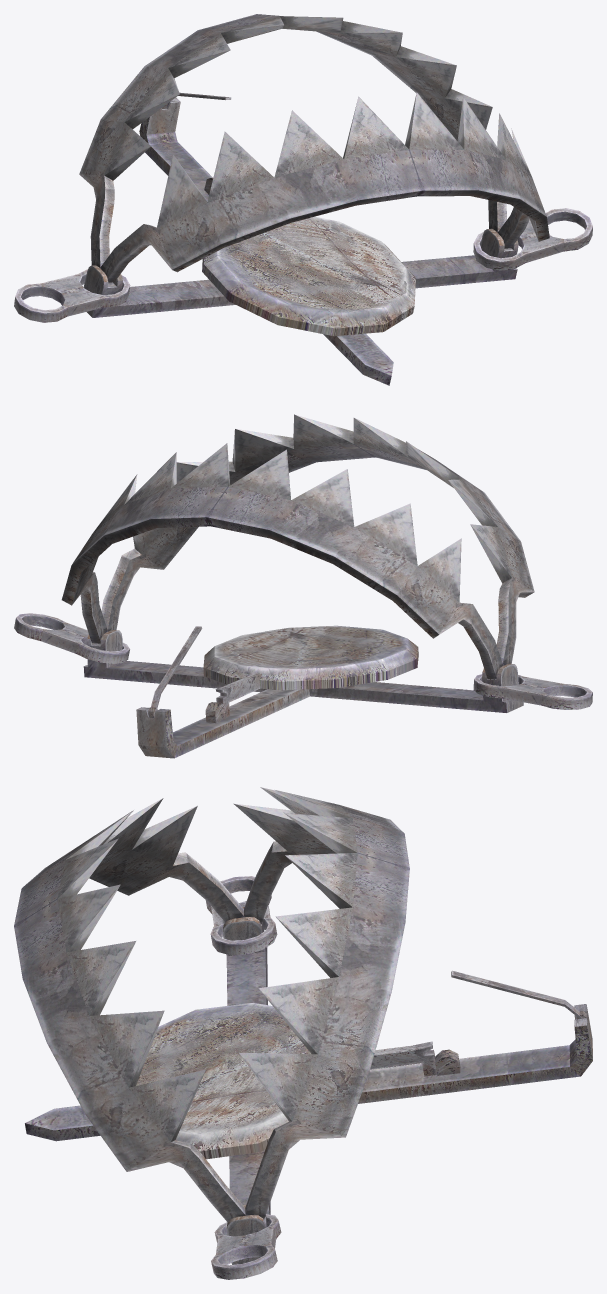
3 views of the same model, one above another, from view 1: azimuth 30°, elevation 25°; view 2: azimuth 150°, elevation 25°; view 3: azimuth 270°, elevation 25° (orthographic). The views are drawn at different scales.
Visible parts, largest first — view 1: Trap_LeftSide, Trap_Center, Trap_RightSide, Trap_Cross, Trap_1; view 2: Trap_RightSide, Trap_LeftSide, Trap_Cross, Trap_Center, Trap_1, Trap_4, Trap_3; view 3: Trap_LeftSide, Trap_RightSide, Trap_Center, Trap_Cross, Trap_1, Trap_4, Trap_3.
Boxes of the visible parts, bbox=[...] form: Trap_LeftSide: bbox=[100, 92, 549, 282]; Trap_Center: bbox=[202, 216, 415, 336]; Trap_RightSide: bbox=[79, 14, 506, 268]; Trap_Cross: bbox=[83, 97, 518, 385]; Trap_1: bbox=[14, 208, 592, 322]; Trap_RightSide: bbox=[61, 443, 503, 679]; Trap_LeftSide: bbox=[101, 414, 534, 665]; Trap_Cross: bbox=[83, 630, 523, 758]; Trap_Center: bbox=[203, 625, 418, 690]; Trap_1: bbox=[14, 613, 592, 709]; Trap_4: bbox=[215, 673, 261, 717]; Trap_3: bbox=[151, 626, 202, 714]; Trap_LeftSide: bbox=[14, 798, 245, 1222]; Trap_RightSide: bbox=[233, 787, 409, 1219]; Trap_Center: bbox=[136, 1003, 311, 1159]; Trap_Cross: bbox=[25, 907, 592, 1264]; Trap_1: bbox=[205, 876, 281, 1279]; Trap_4: bbox=[370, 1041, 436, 1076]; Trap_3: bbox=[451, 970, 582, 1018].
Bounding box in the file's own units: 149 × 71.91 × 112.
1 material, 1 textured.
